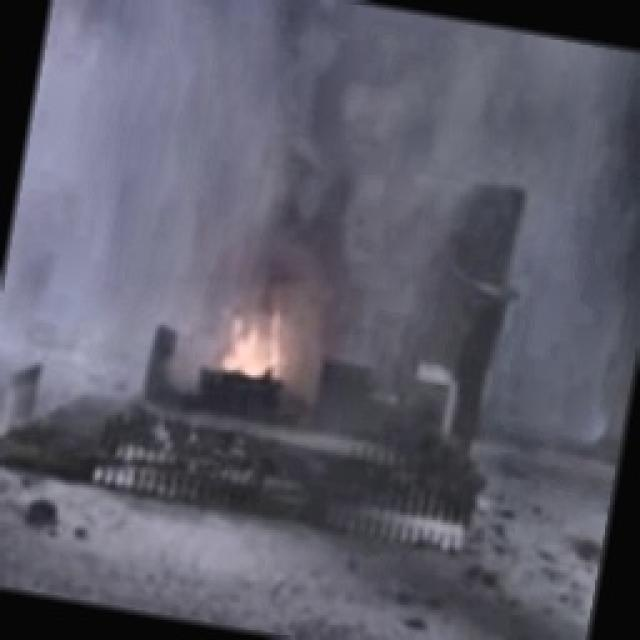fire: (180, 276, 335, 446)
smoke: (10, 0, 640, 340)
